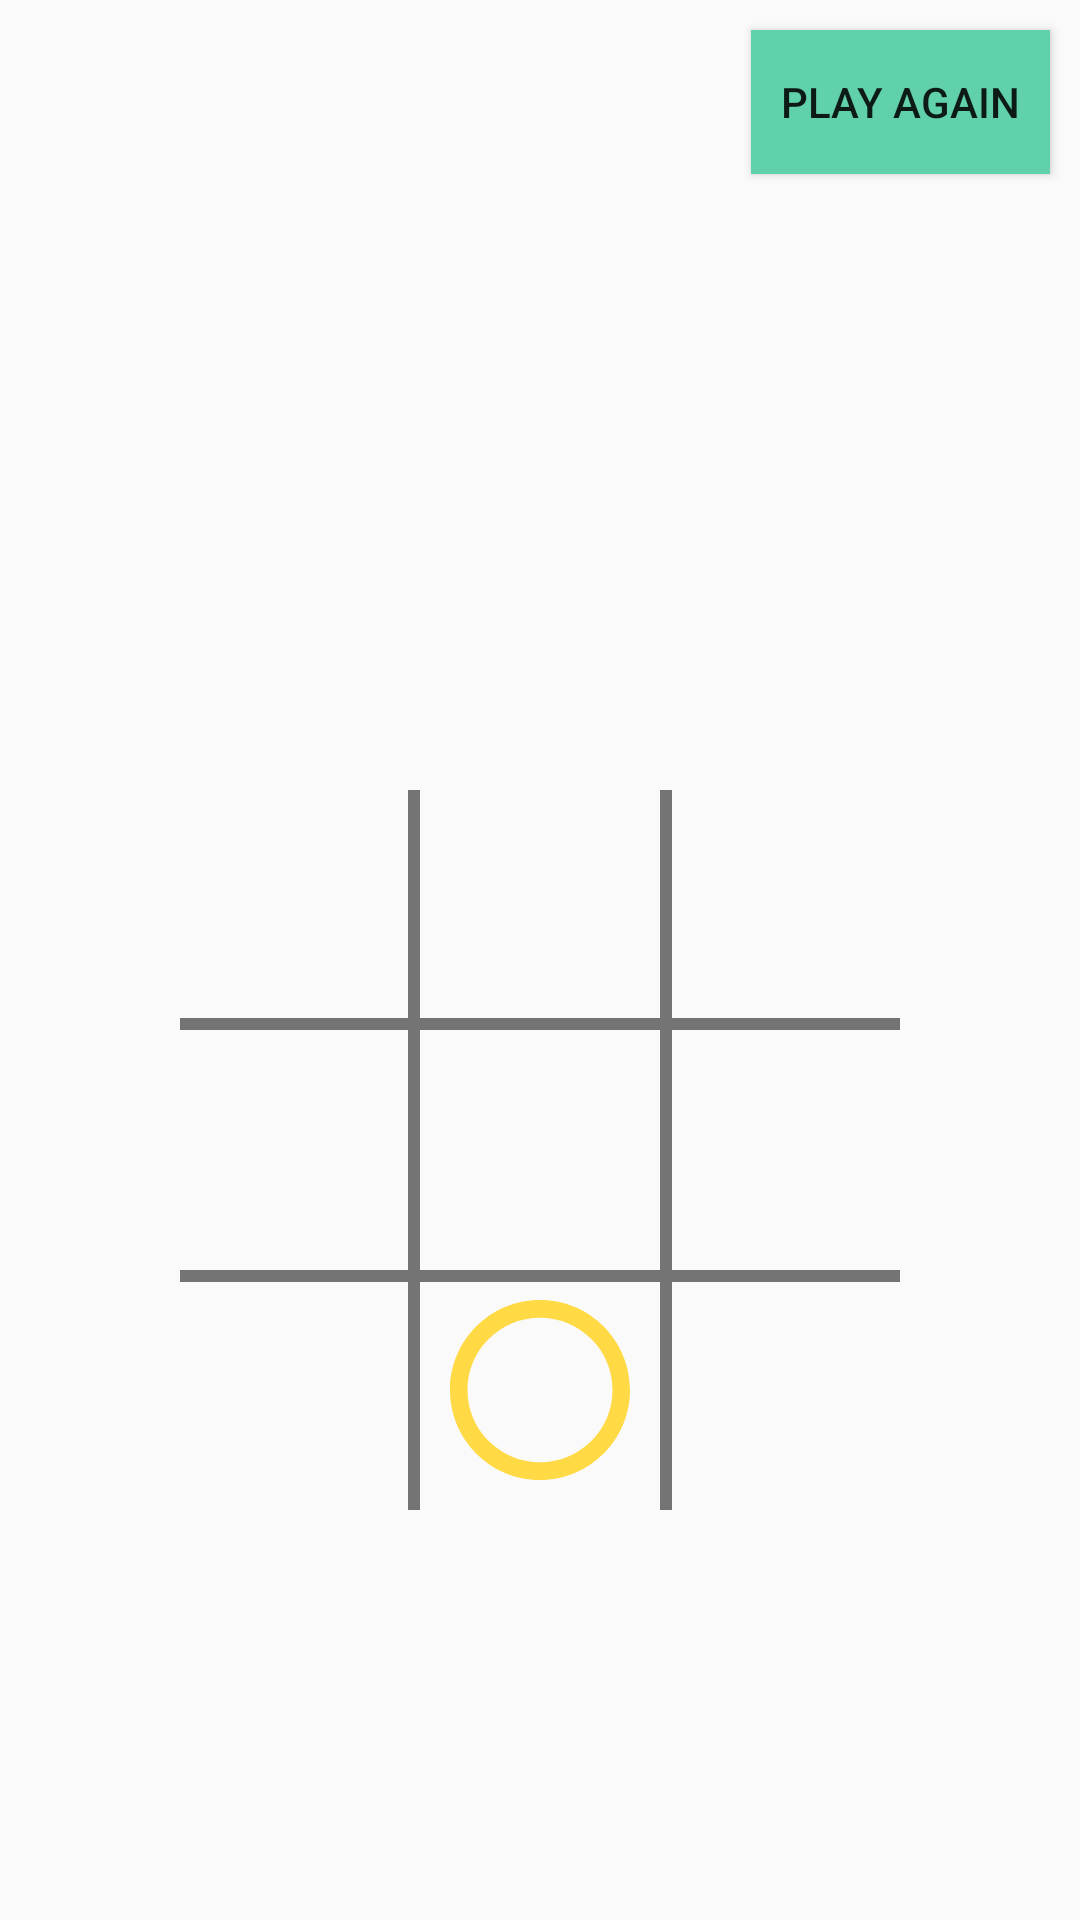

Screen size 1080w x 1920h. Icon name, then its center in pixels as (x,y):
zero: (540,1390)
